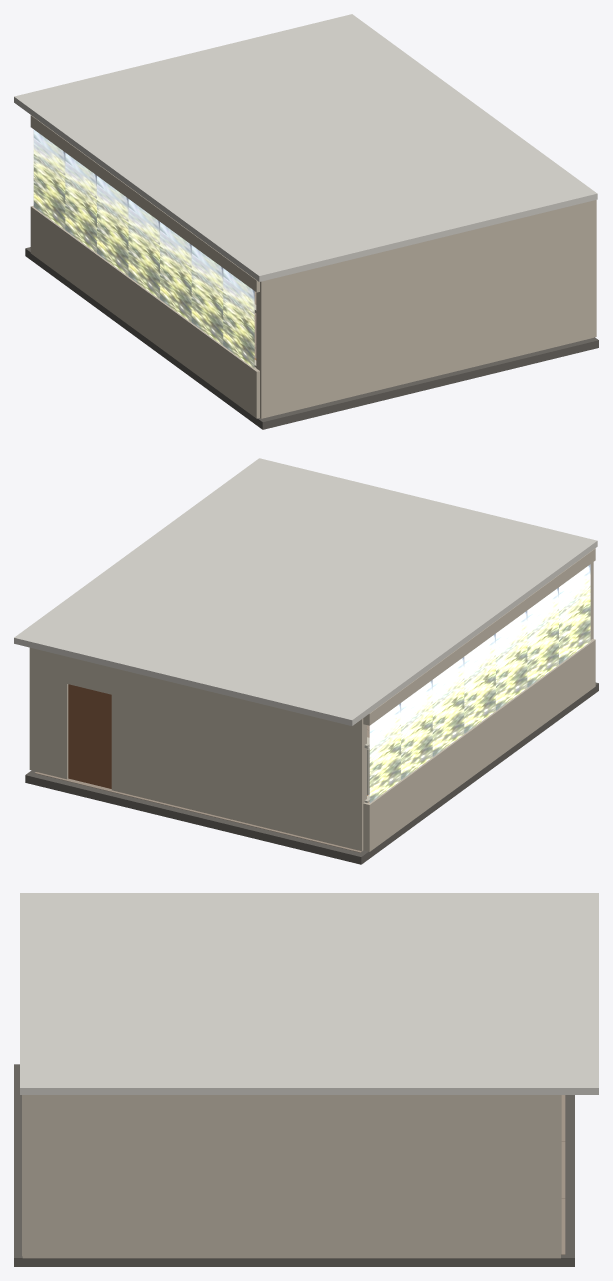
Rendered from Lab_Setup.glb.
3 views of the same model, one above another, from view 1: azimuth 30°, elevation 25°; view 2: azimuth 150°, elevation 25°; view 3: azimuth 270°, elevation 25° (orthographic). The views are drawn at different scales.
Parts seen in each view (by area): view 1: Ceiling | removable, Room | plaster walls, West | glazed windows, Room | tiled floor; view 2: Ceiling | removable, Room | plaster walls, West | glazed windows, Room | tiled floor, Entrance | oak door; view 3: Ceiling | removable, Room | plaster walls, Room | tiled floor.
Part boxes in pixels (x1,y1,x2,y2): Ceiling | removable: [14, 14, 597, 281]; Room | plaster walls: [30, 115, 596, 418]; West | glazed windows: [33, 129, 256, 368]; Room | tiled floor: [25, 247, 598, 429]; Ceiling | removable: [14, 458, 597, 725]; Room | plaster walls: [29, 548, 595, 851]; West | glazed windows: [364, 564, 590, 802]; Room | tiled floor: [25, 682, 598, 864]; Entrance | oak door: [68, 684, 111, 788]; Ceiling | removable: [20, 893, 598, 1094]; Room | plaster walls: [22, 1095, 561, 1258]; Room | tiled floor: [14, 1064, 574, 1266].
Size of the model in its own units: 8.32 by 3.57 by 10.53.
27 materials, 6 textured.
